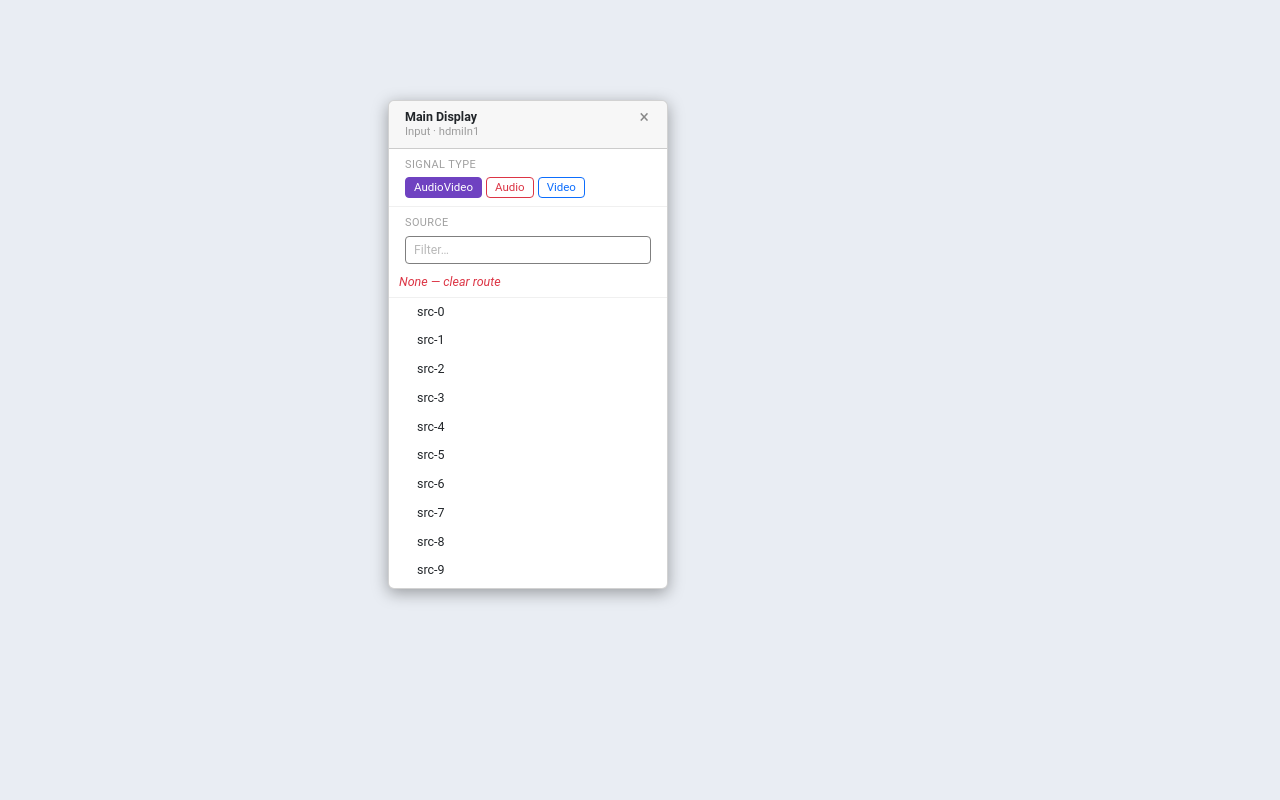
it: filtering › keeps the clear option available while filtering
This screenshot has width=1280, height=800.
Type "nothingmatches" into the field named "Filter options" at (528, 250), box left=405, top=236, right=651, bottom=264
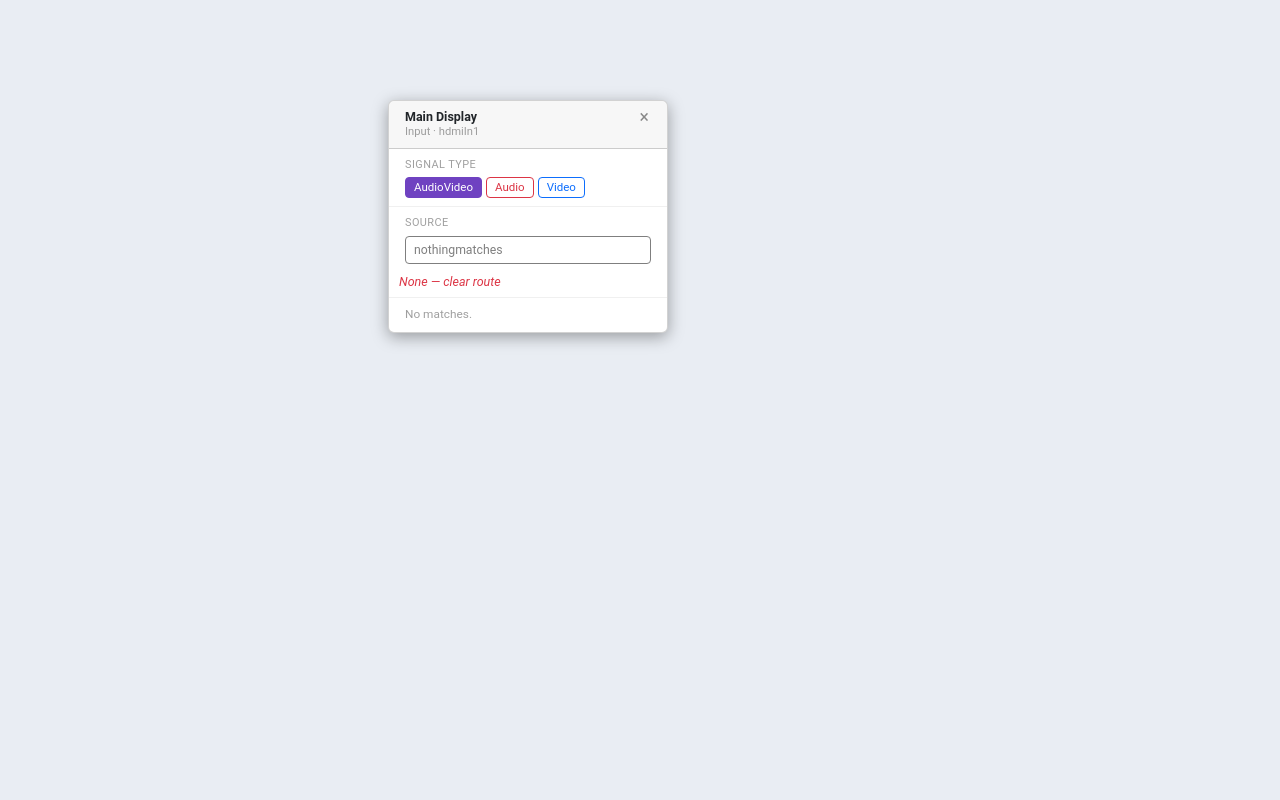
Expected: the button "None — clear route" is shown, left=389, top=268, right=667, bottom=298
Now the text "No matches." is shown, box left=405, top=307, right=472, bottom=321
